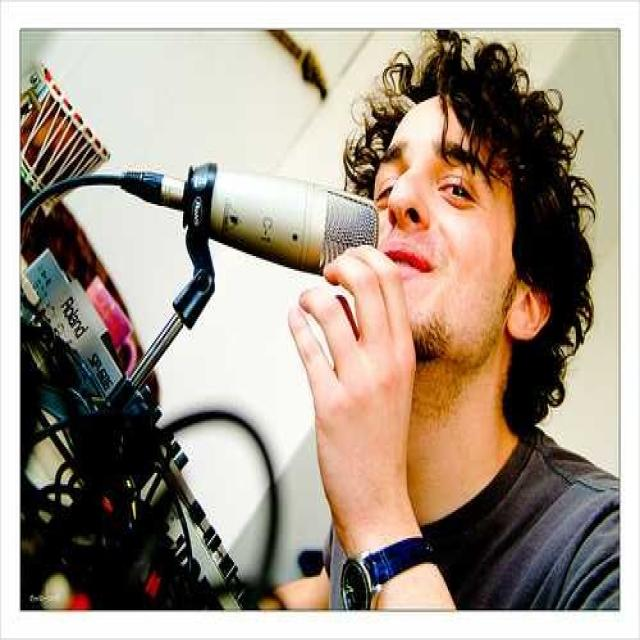microphone: (152, 162, 387, 282)
